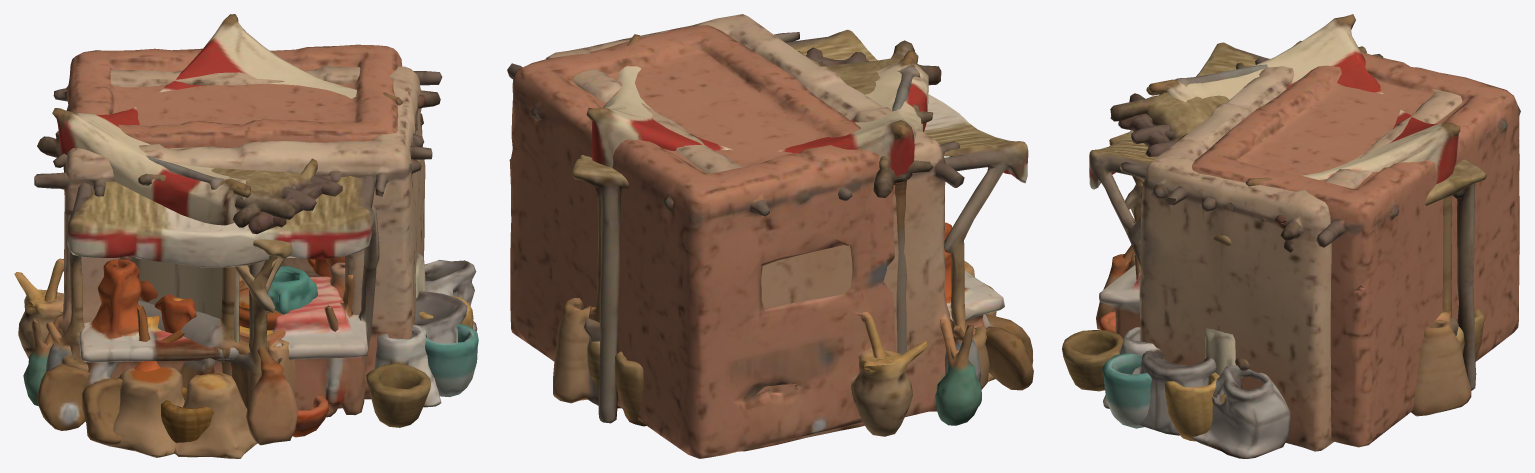
Rendered from stalls.glb.
3 renders of one model, left to right at view 1: azimuth 30°, elevation 25°; view 2: azimuth 150°, elevation 25°; view 3: azimuth 270°, elevation 25°, orthographic. The views are drawn at different scales.
Parts seen in each view (by area): view 1: part4, part5, part3, part0, part1, part2; view 2: part4, part5, part1, part3, part0, part2; view 3: part4, part5, part1, part3, part2, part0.
Boxes of the visible parts, x1,y1,x2,y2 form: part4: (14, 44, 477, 445); part5: (23, 66, 478, 406); part3: (52, 14, 425, 400); part0: (109, 159, 420, 458); part1: (37, 113, 473, 445); part2: (132, 174, 353, 342); part4: (507, 25, 1033, 458); part5: (546, 14, 981, 451); part1: (553, 40, 993, 423); part3: (586, 34, 928, 372); part0: (614, 261, 996, 426); part2: (587, 47, 930, 408); part4: (1062, 42, 1520, 458); part5: (1102, 40, 1462, 451); part1: (1096, 46, 1486, 441); part3: (1130, 14, 1460, 398); part2: (1118, 113, 1464, 354); part0: (1098, 132, 1484, 361).
Size of the model in its own units: 0.3714 by 0.2226 by 0.3378.
Materials: 1 (1 with a texture image).
